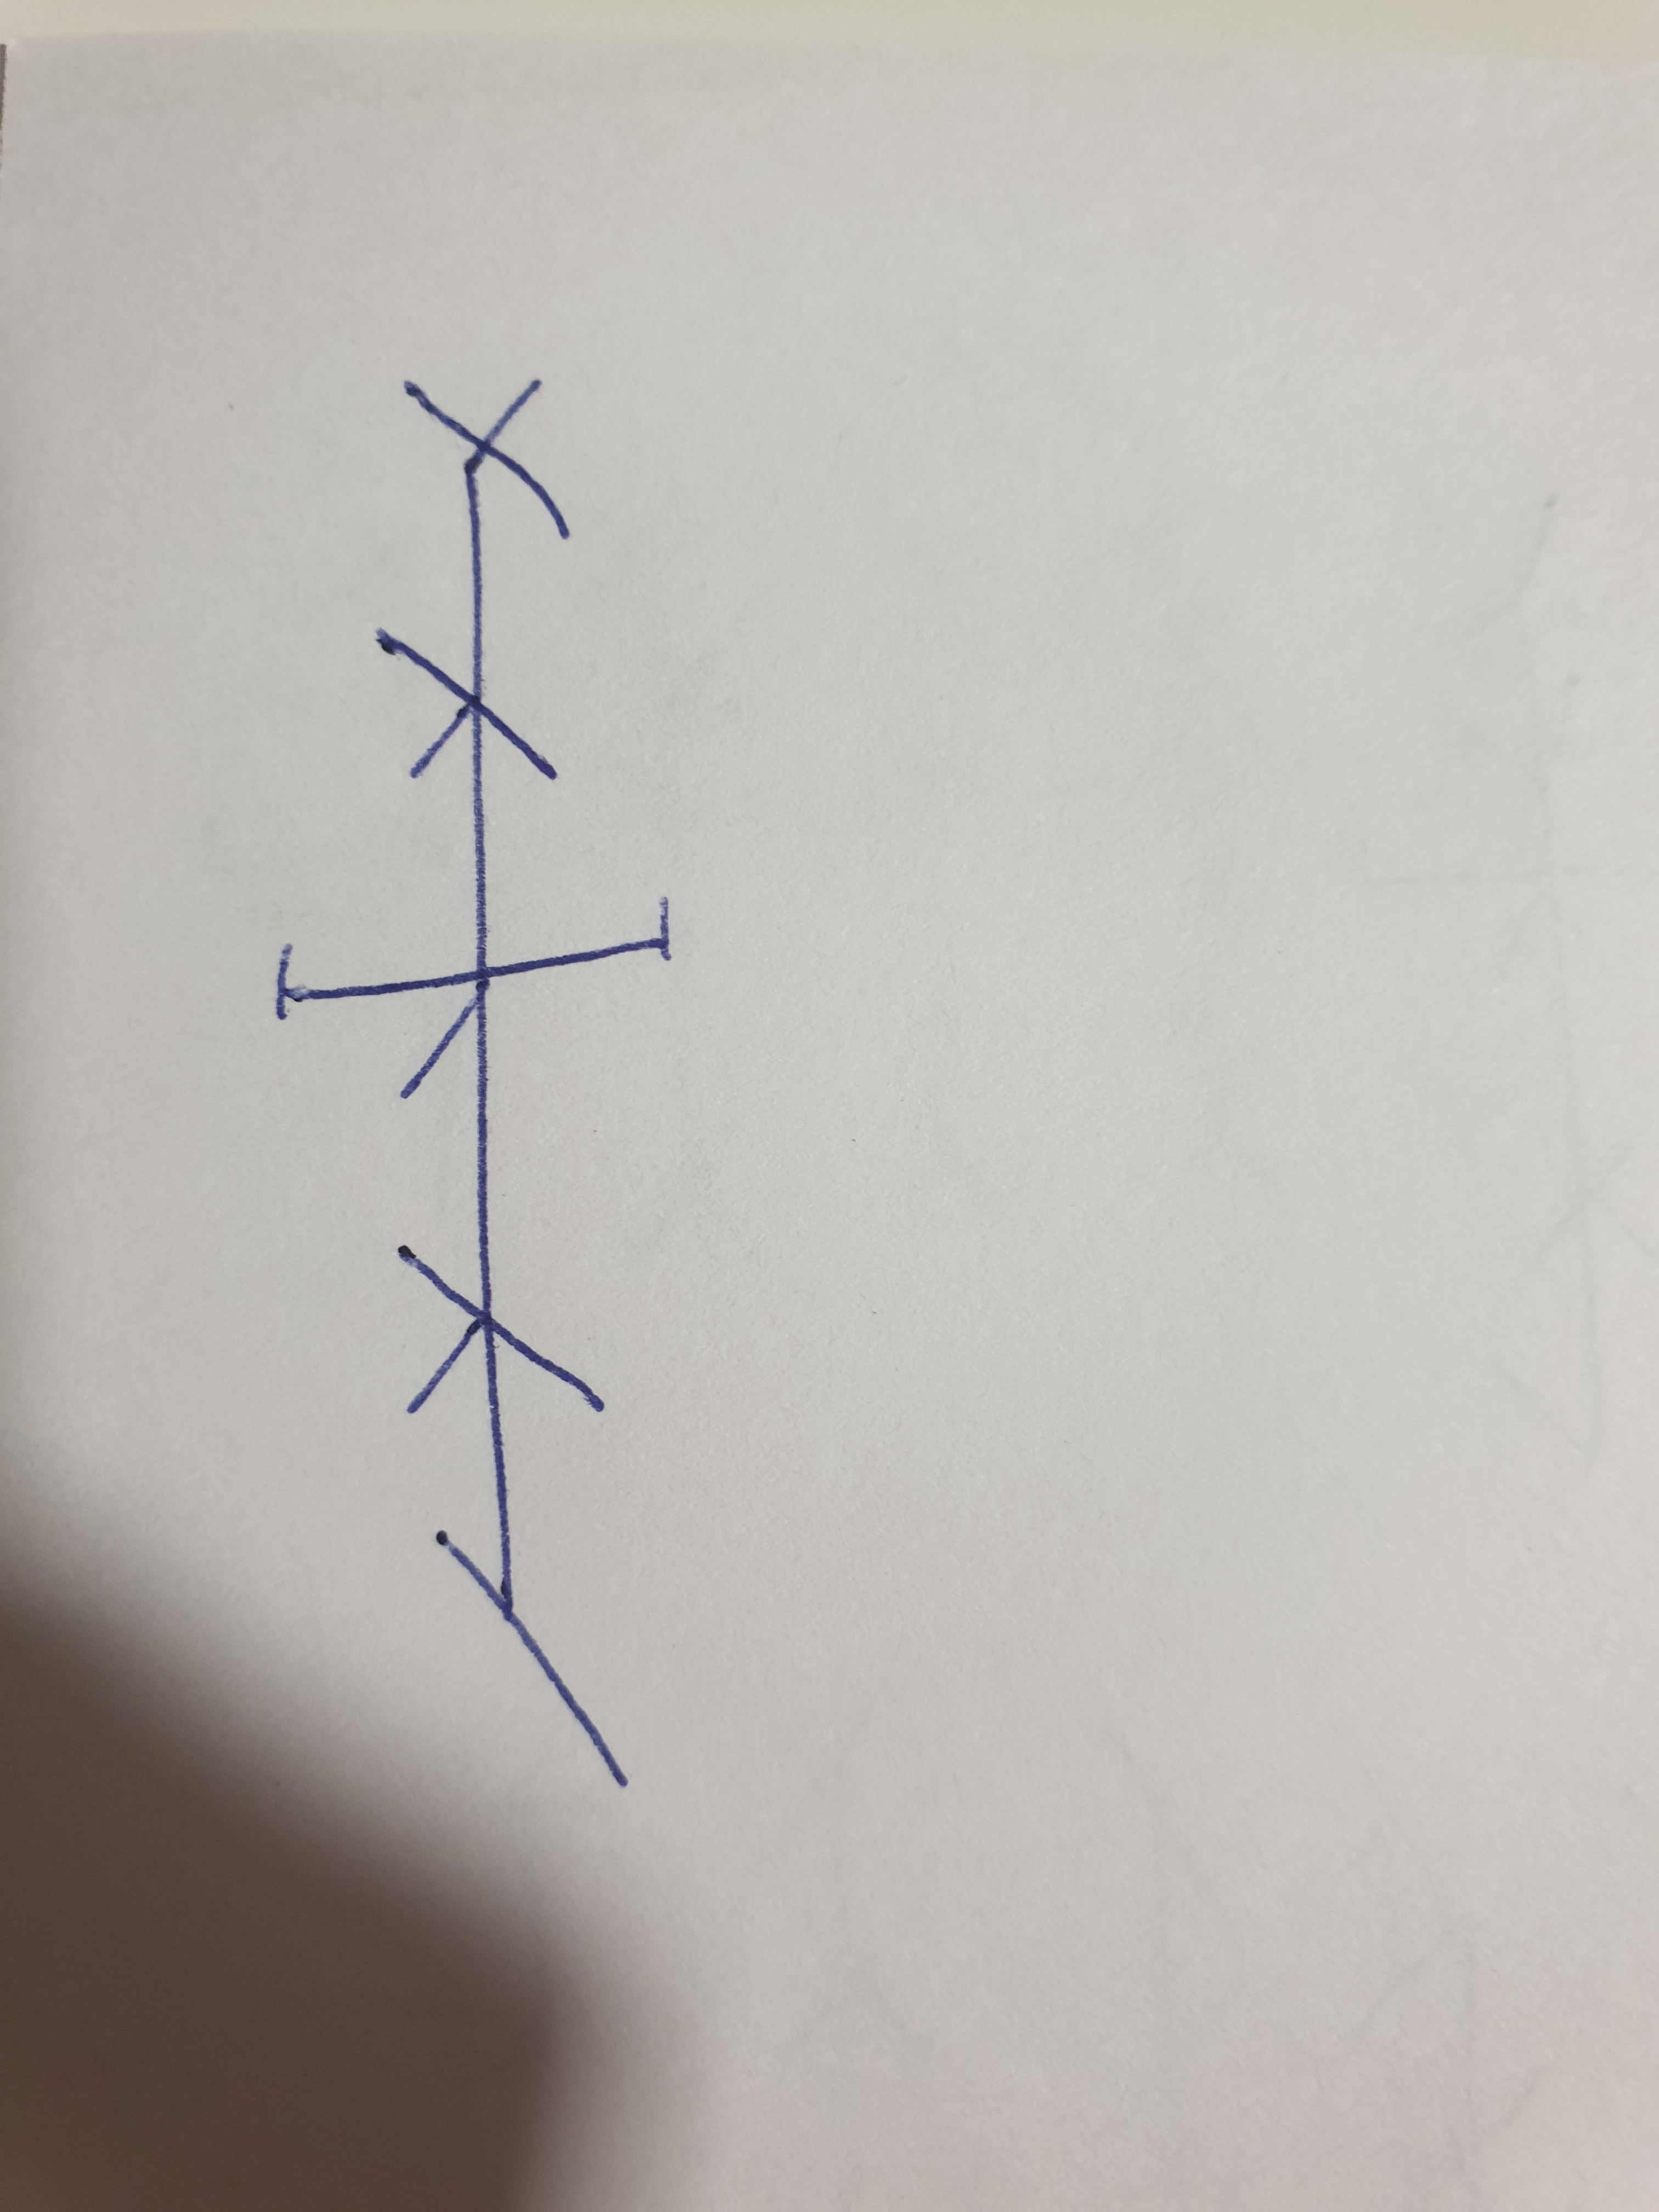Bar: (376, 378, 631, 1789)
Barcode: (274, 376, 671, 1792)
End: (488, 895, 669, 981)
Start: (272, 941, 457, 1022)
